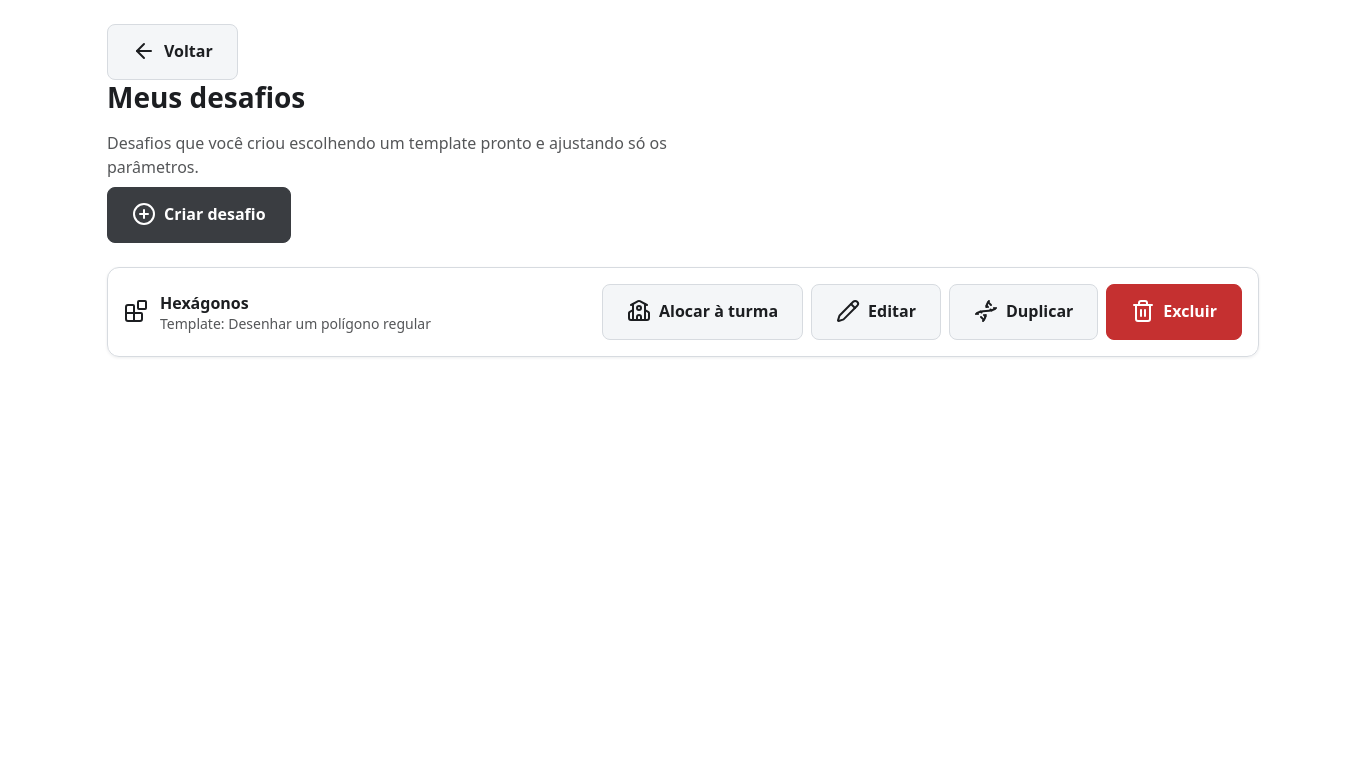
Test case: TeacherChallenges › asks for confirmation before deleting, never deletes on a single click
Expected: the text "Hexágonos" is shown, x1=160 y1=292 x2=249 y2=314
Click the button "Excluir" at (1174, 312), box x1=1106 y1=284 x2=1242 y2=340
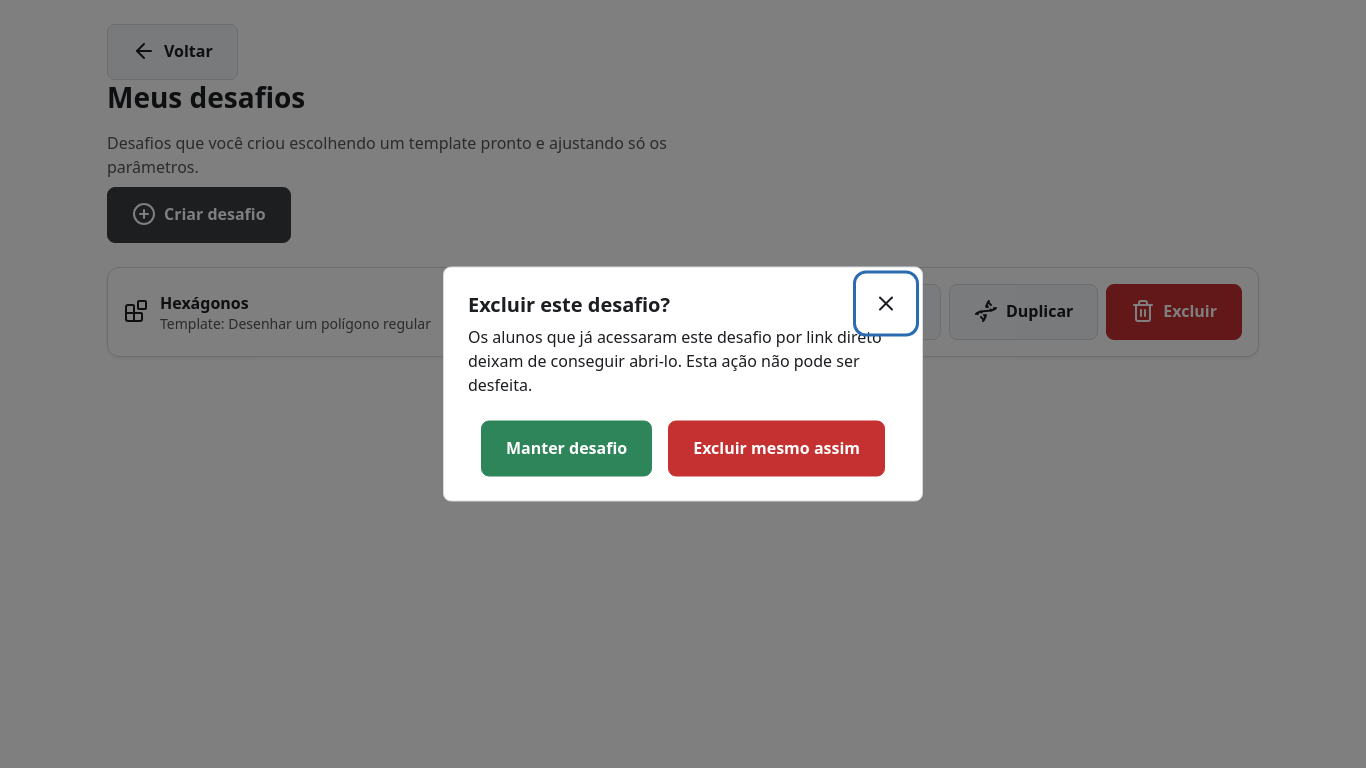
Expected: the dialog "Excluir este desafio" is shown, x1=443 y1=266 x2=923 y2=502
